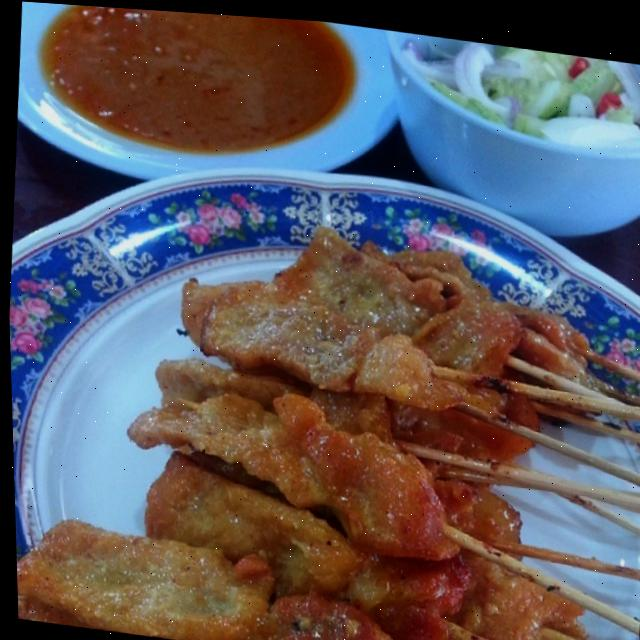牛肉菜式: (4, 172, 640, 640)
